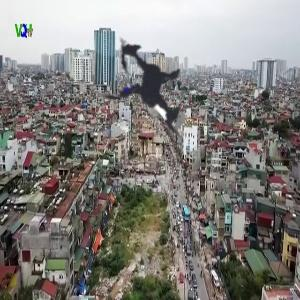drone: (56, 1, 242, 187)
